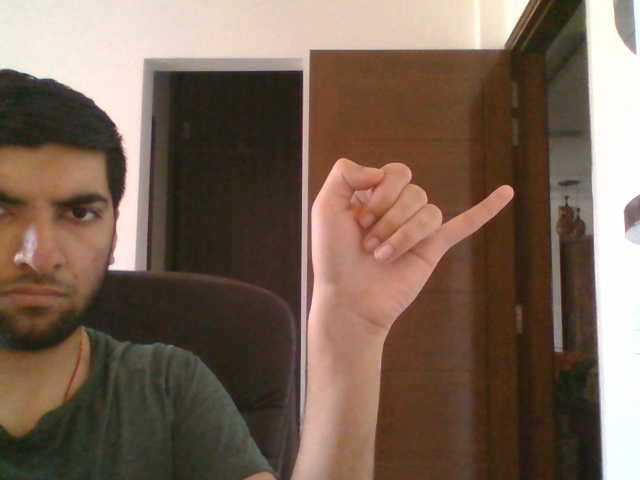LetterJ: (310, 158, 514, 331)
